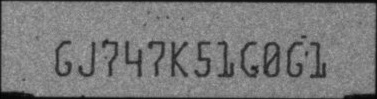0: (262, 40, 280, 77)
1: (309, 40, 328, 78), (216, 41, 235, 77)
4: (125, 39, 143, 79)
5: (193, 40, 212, 78)
7: (101, 39, 119, 77), (147, 40, 165, 77)
C: (240, 39, 259, 78)
G: (55, 39, 74, 77), (285, 39, 302, 77)
J: (78, 40, 95, 76)
K: (170, 40, 190, 77)
